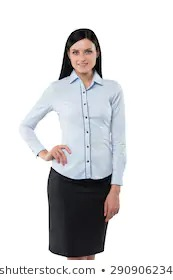F_shirt: (17, 68, 128, 188)
F_tailored skirt: (43, 160, 116, 255)
